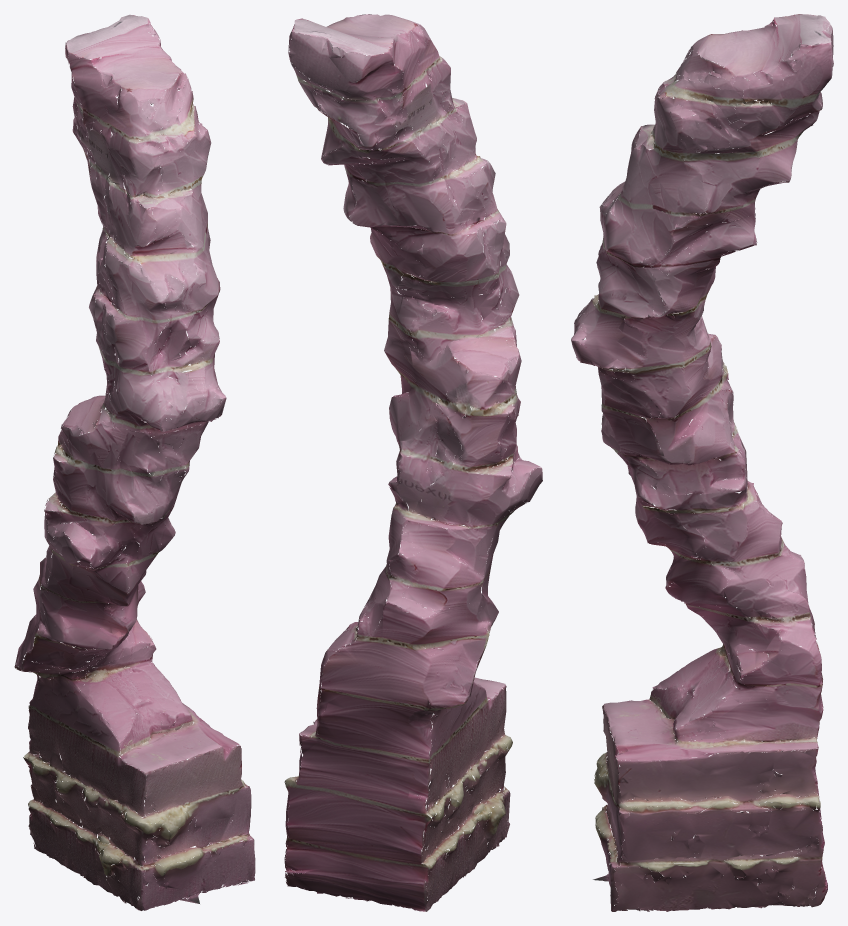
The model's file is isopink.glb.
3 renders of one model, left to right at view 1: azimuth 30°, elevation 25°; view 2: azimuth 150°, elevation 25°; view 3: azimuth 270°, elevation 25°, orthographic. The views are drawn at different scales.
Visible parts, largest first — view 1: Mesh_0_Part_0; view 2: Mesh_0_Part_0; view 3: Mesh_0_Part_0.
Part boxes in pixels (x1,y1,x2,y2): Mesh_0_Part_0: (14, 14, 255, 910); Mesh_0_Part_0: (284, 14, 542, 911); Mesh_0_Part_0: (571, 14, 833, 911).
Size of the model in its own units: 5.62 by 25.25 by 6.99.
Materials: 1 (1 with a texture image).
